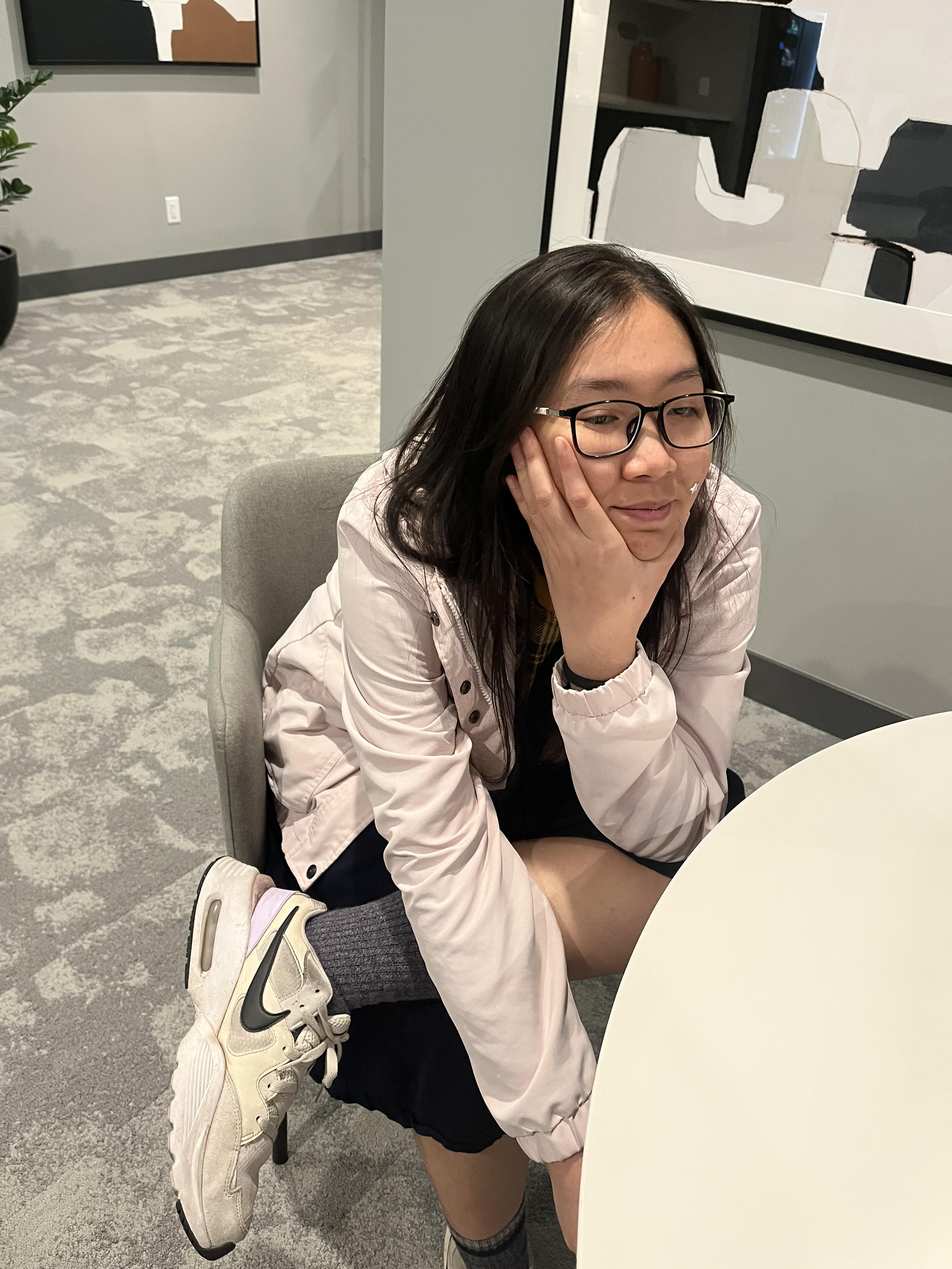BadPosture: (162, 242, 761, 1269)
